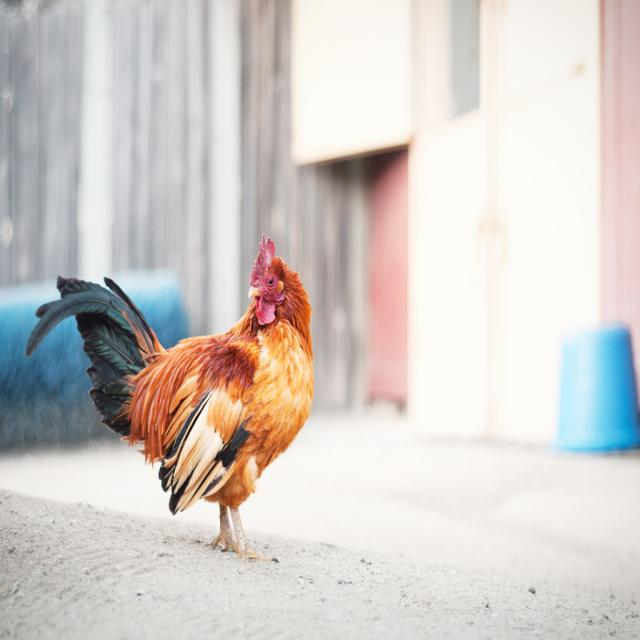Chicken: (28, 249, 316, 557)
